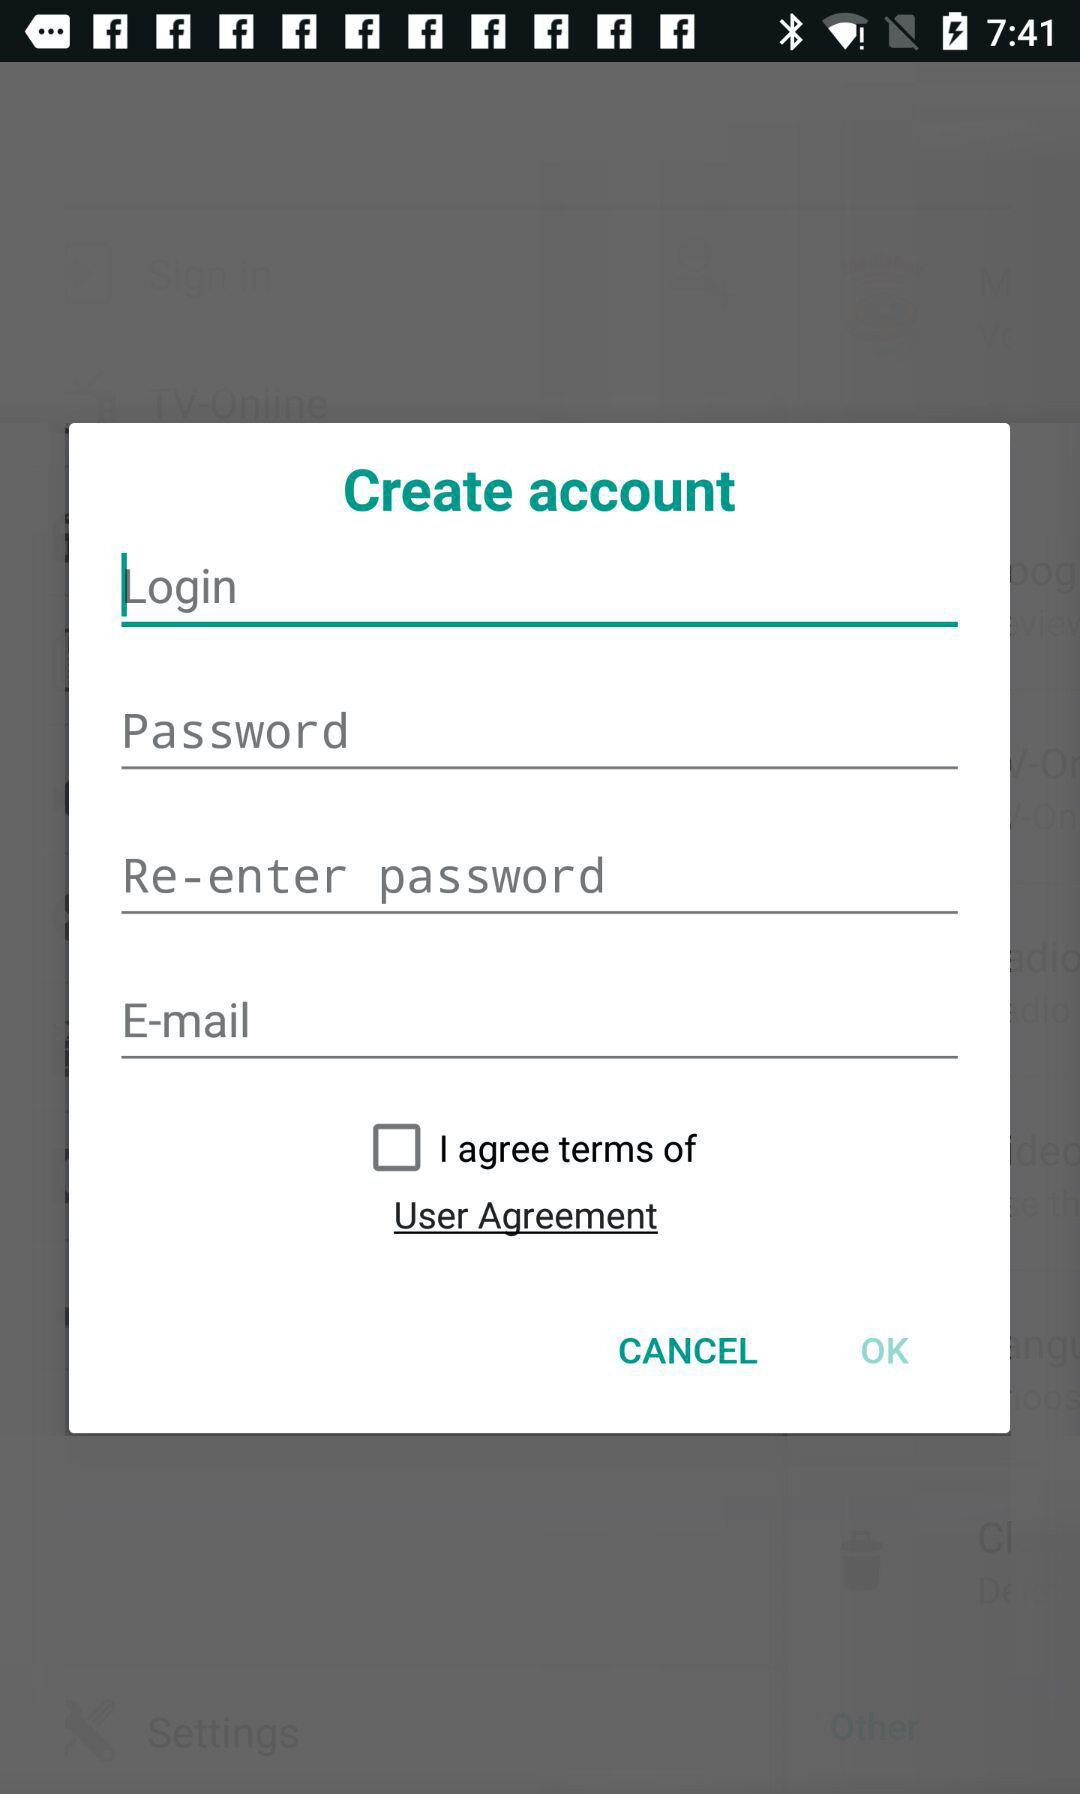CheckedTextView: (373, 1123, 698, 1173)
EditText: (122, 554, 958, 628), (122, 856, 960, 915), (122, 1002, 960, 1060), (122, 712, 958, 770)
Modal: (69, 424, 1010, 1434)
Text: (126, 856, 603, 905), (345, 470, 735, 513), (441, 1132, 698, 1171), (393, 1201, 659, 1237), (126, 712, 347, 750), (126, 569, 236, 614), (126, 1002, 250, 1039), (620, 1338, 758, 1363), (862, 1338, 910, 1363)
UpperTaskBar: (1, 1, 1080, 63)
